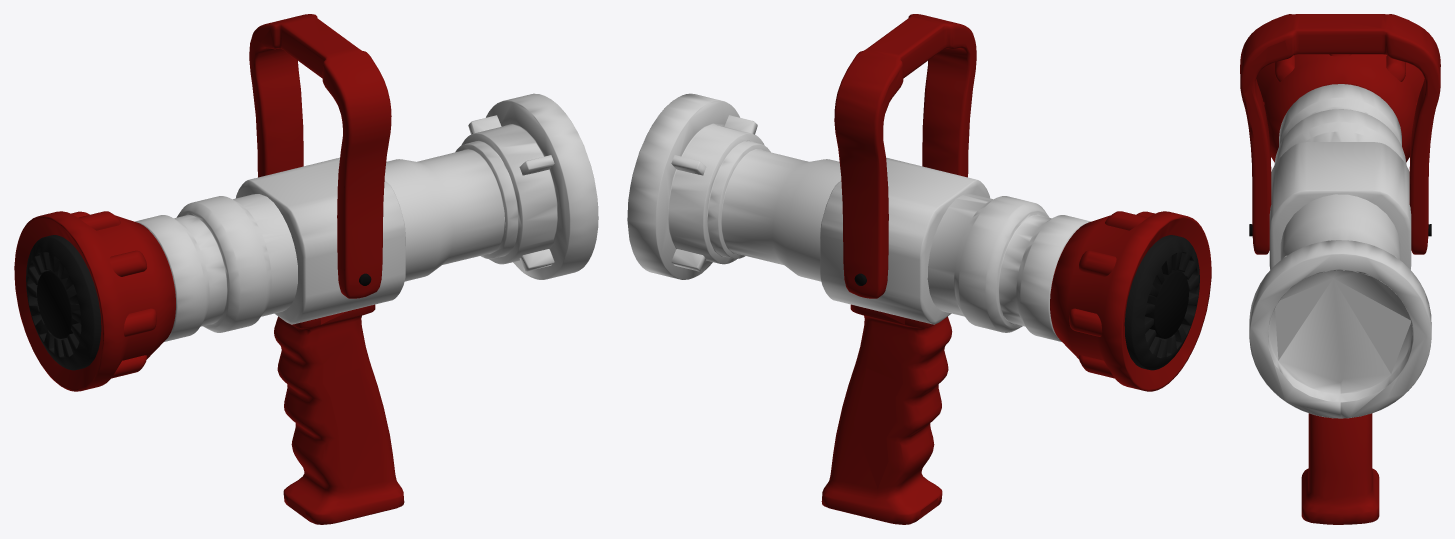
The model's file is Nozzle.obj.
3 views of the same model, side by side, from view 1: azimuth 30°, elevation 25°; view 2: azimuth 150°, elevation 25°; view 3: azimuth 270°, elevation 25° (orthographic).
Parts seen in each view (by area): view 1: Cylinder.001_0; view 2: Cylinder.001_0; view 3: Cylinder.001_0.
Part boxes in pixels (left/top/right/bottom): Cylinder.001_0: left=14, top=14, right=598, bottom=524; Cylinder.001_0: left=627, top=14, right=1211, bottom=524; Cylinder.001_0: left=1240, top=14, right=1440, bottom=524.
Size of the model in its own units: 0.42 by 0.3805 by 0.1475.
